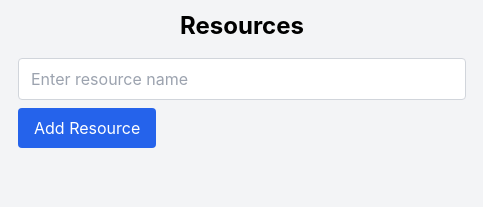
Test: Resources Page › refuses an empty name without calling the API
Click the button "Add Resource": (87,128) [18,108,156,148]
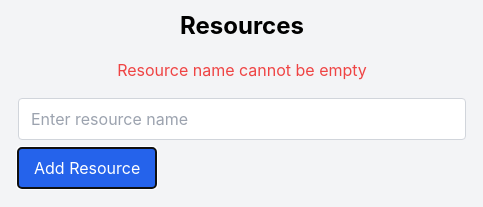
Check: the text "Resource name cannot be empty" is shown, box [117,58,367,82]
